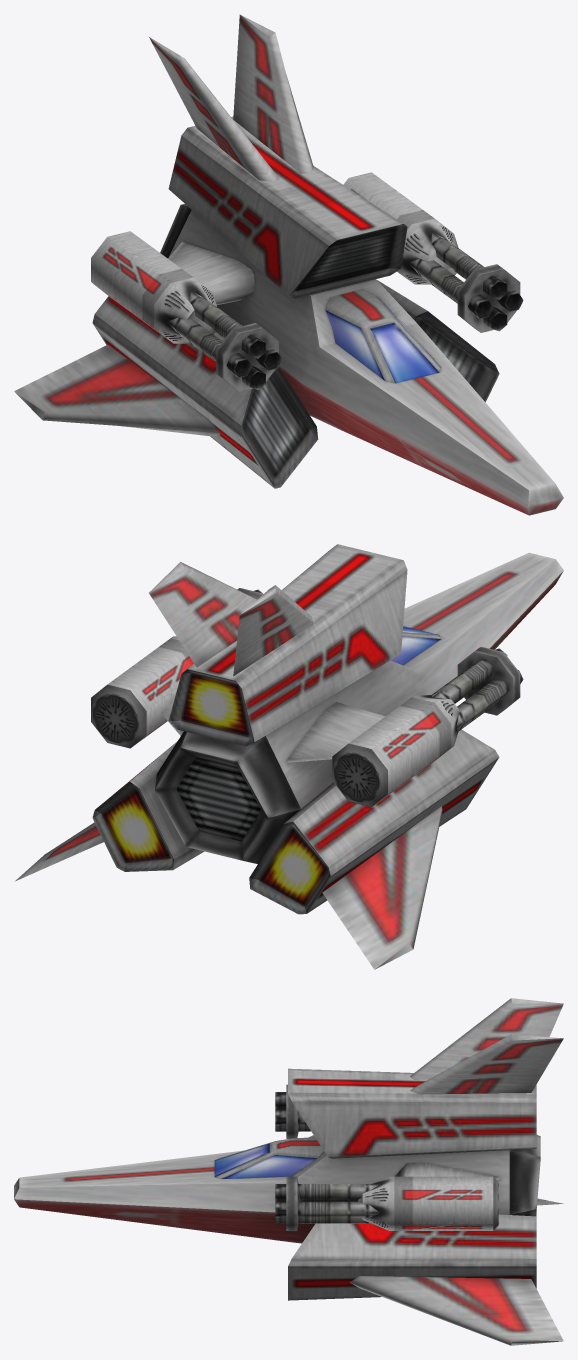
The model's file is forma.obj.
The picture shows the model from 3 angles, top to bottom: view 1: azimuth 30°, elevation 25°; view 2: azimuth 150°, elevation 25°; view 3: azimuth 270°, elevation 25°; orthographic projection. The views are drawn at different scales.
Parts seen in each view (by area): view 1: object_10, object_4, object_3, object_5, object_13, object_1, object_6, object_7, object_12, object_2, object_8, object_11; view 2: object_10, object_4, object_3, object_5, object_13, object_2, object_1, object_6, object_7, object_8, object_14, object_12; view 3: object_10, object_4, object_2, object_1, object_14, object_6, object_7, object_12, object_5, object_9, object_11.
Part boxes in pixels (left/top/right/bottom): object_10: left=160, top=204, right=563, bottom=515; object_4: left=168, top=116, right=407, bottom=298; object_3: left=92, top=296, right=318, bottom=488; object_5: left=91, top=231, right=281, bottom=391; object_13: left=14, top=344, right=220, bottom=437; object_1: left=343, top=172, right=523, bottom=332; object_6: left=233, top=14, right=313, bottom=173; object_7: left=149, top=37, right=279, bottom=182; object_12: left=325, top=299, right=441, bottom=383; object_2: left=377, top=280, right=499, bottom=402; object_8: left=168, top=242, right=254, bottom=304; object_11: left=325, top=289, right=396, bottom=328; object_10: left=155, top=552, right=563, bottom=863; object_4: left=168, top=544, right=407, bottom=746; object_3: left=249, top=729, right=499, bottom=914; object_5: left=332, top=646, right=523, bottom=807; object_13: left=322, top=806, right=442, bottom=969; object_2: left=92, top=741, right=204, bottom=871; object_1: left=91, top=588, right=263, bottom=748; object_6: left=149, top=562, right=256, bottom=667; object_7: left=233, top=585, right=313, bottom=676; object_8: left=285, top=702, right=385, bottom=762; object_14: left=14, top=822, right=103, bottom=881; object_12: left=390, top=626, right=440, bottom=665; object_10: left=14, top=1135, right=540, bottom=1243; object_4: left=288, top=1068, right=536, bottom=1158; object_2: left=288, top=1214, right=536, bottom=1300; object_1: left=275, top=1176, right=498, bottom=1230; object_14: left=349, top=1276, right=563, bottom=1345; object_6: left=410, top=1034, right=563, bottom=1094; object_7: left=410, top=998, right=563, bottom=1079; object_12: left=214, top=1141, right=316, bottom=1178; object_5: left=275, top=1084, right=311, bottom=1138; object_9: left=395, top=1163, right=501, bottom=1179; object_11: left=270, top=1137, right=323, bottom=1157.
Bounding box in the file's own units: 0.6088 × 0.5193 × 1.
Materials: 1 (1 with a texture image).
